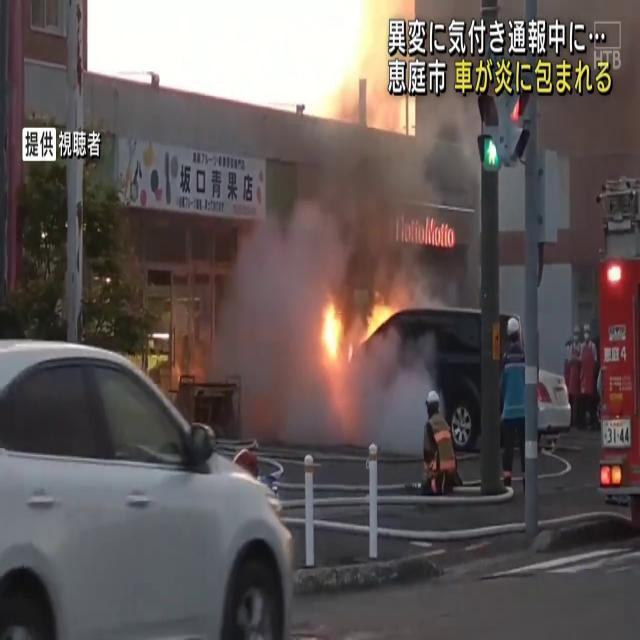Fire: (316, 286, 404, 376), (318, 296, 347, 370)
Smoke: (280, 93, 480, 279), (200, 181, 334, 434)
